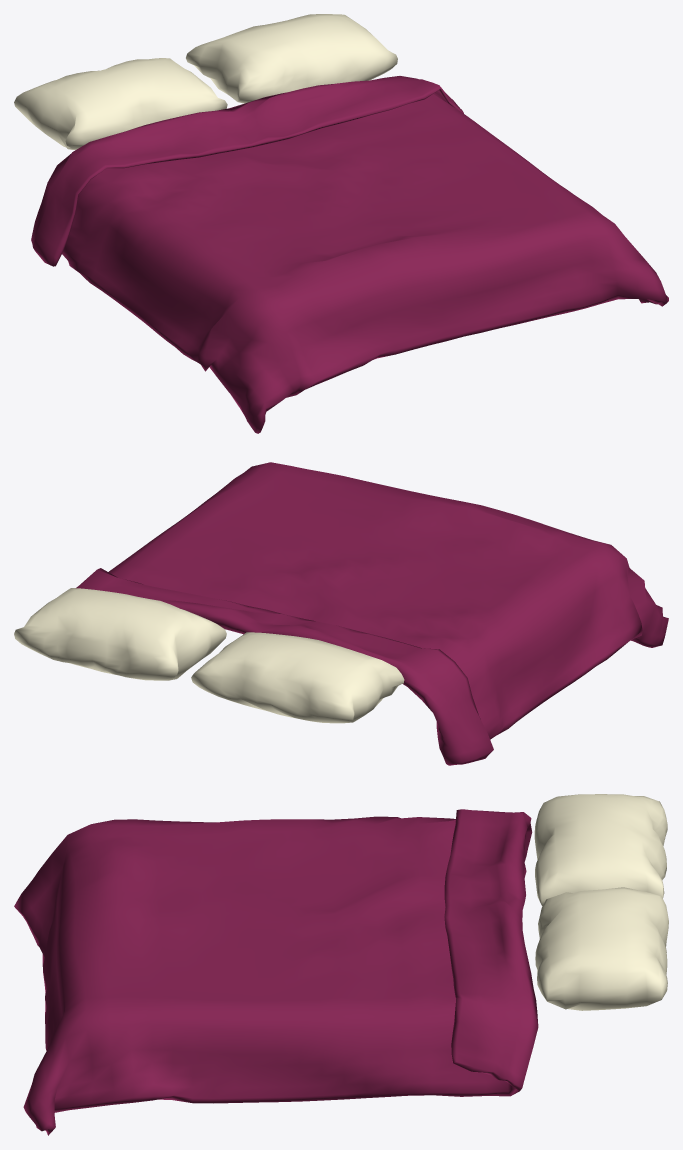
Rendered from Bed_Sheets_Made1.fbx.
The picture shows the model from 3 angles, top to bottom: view 1: azimuth 30°, elevation 25°; view 2: azimuth 150°, elevation 25°; view 3: azimuth 270°, elevation 25°; orthographic projection. The views are drawn at different scales.
Visible parts, largest first — view 1: Bed Blanket - Made, Bed Pillow - Made; view 2: Bed Blanket - Made, Bed Pillow - Made; view 3: Bed Blanket - Made, Bed Pillow - Made.
Boxes of the visible parts, x1,y1,x2,y2 form: Bed Blanket - Made: (31, 76, 668, 433); Bed Pillow - Made: (14, 14, 397, 149); Bed Blanket - Made: (76, 462, 668, 765); Bed Pillow - Made: (14, 588, 404, 723); Bed Blanket - Made: (14, 809, 538, 1135); Bed Pillow - Made: (534, 794, 668, 1010).
Bounding box in the file's own units: 192 × 64.73 × 217.
